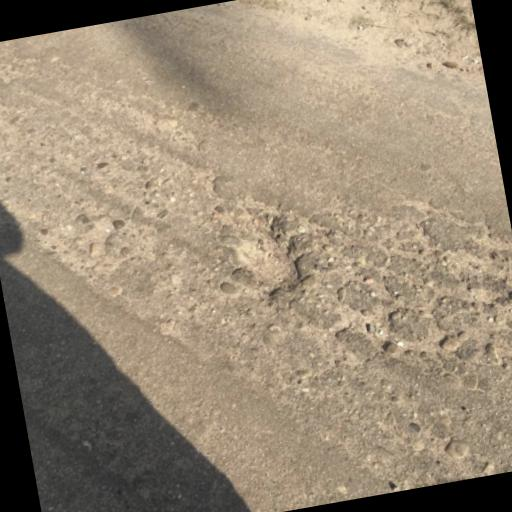pothole: (232, 216, 308, 300)
